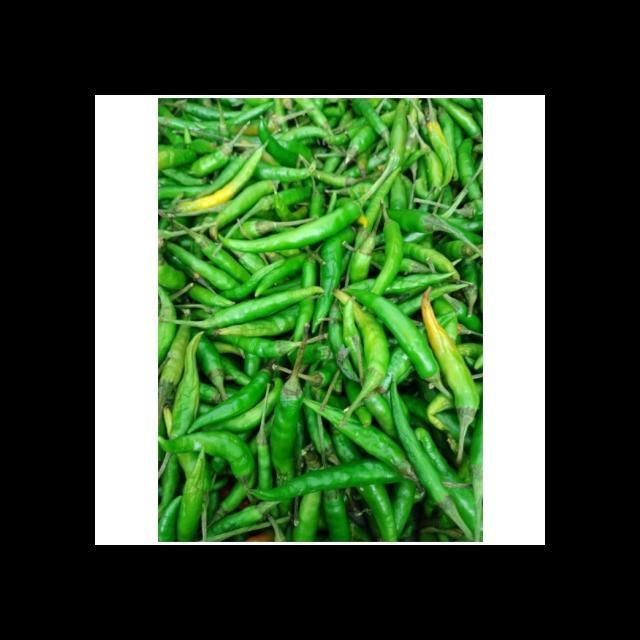chili_pepper: (391, 383, 474, 540), (422, 290, 481, 462), (305, 400, 417, 482), (350, 291, 440, 384), (221, 200, 362, 252), (186, 286, 324, 330), (176, 144, 265, 212), (159, 432, 255, 490), (312, 227, 356, 332), (270, 377, 303, 486)
